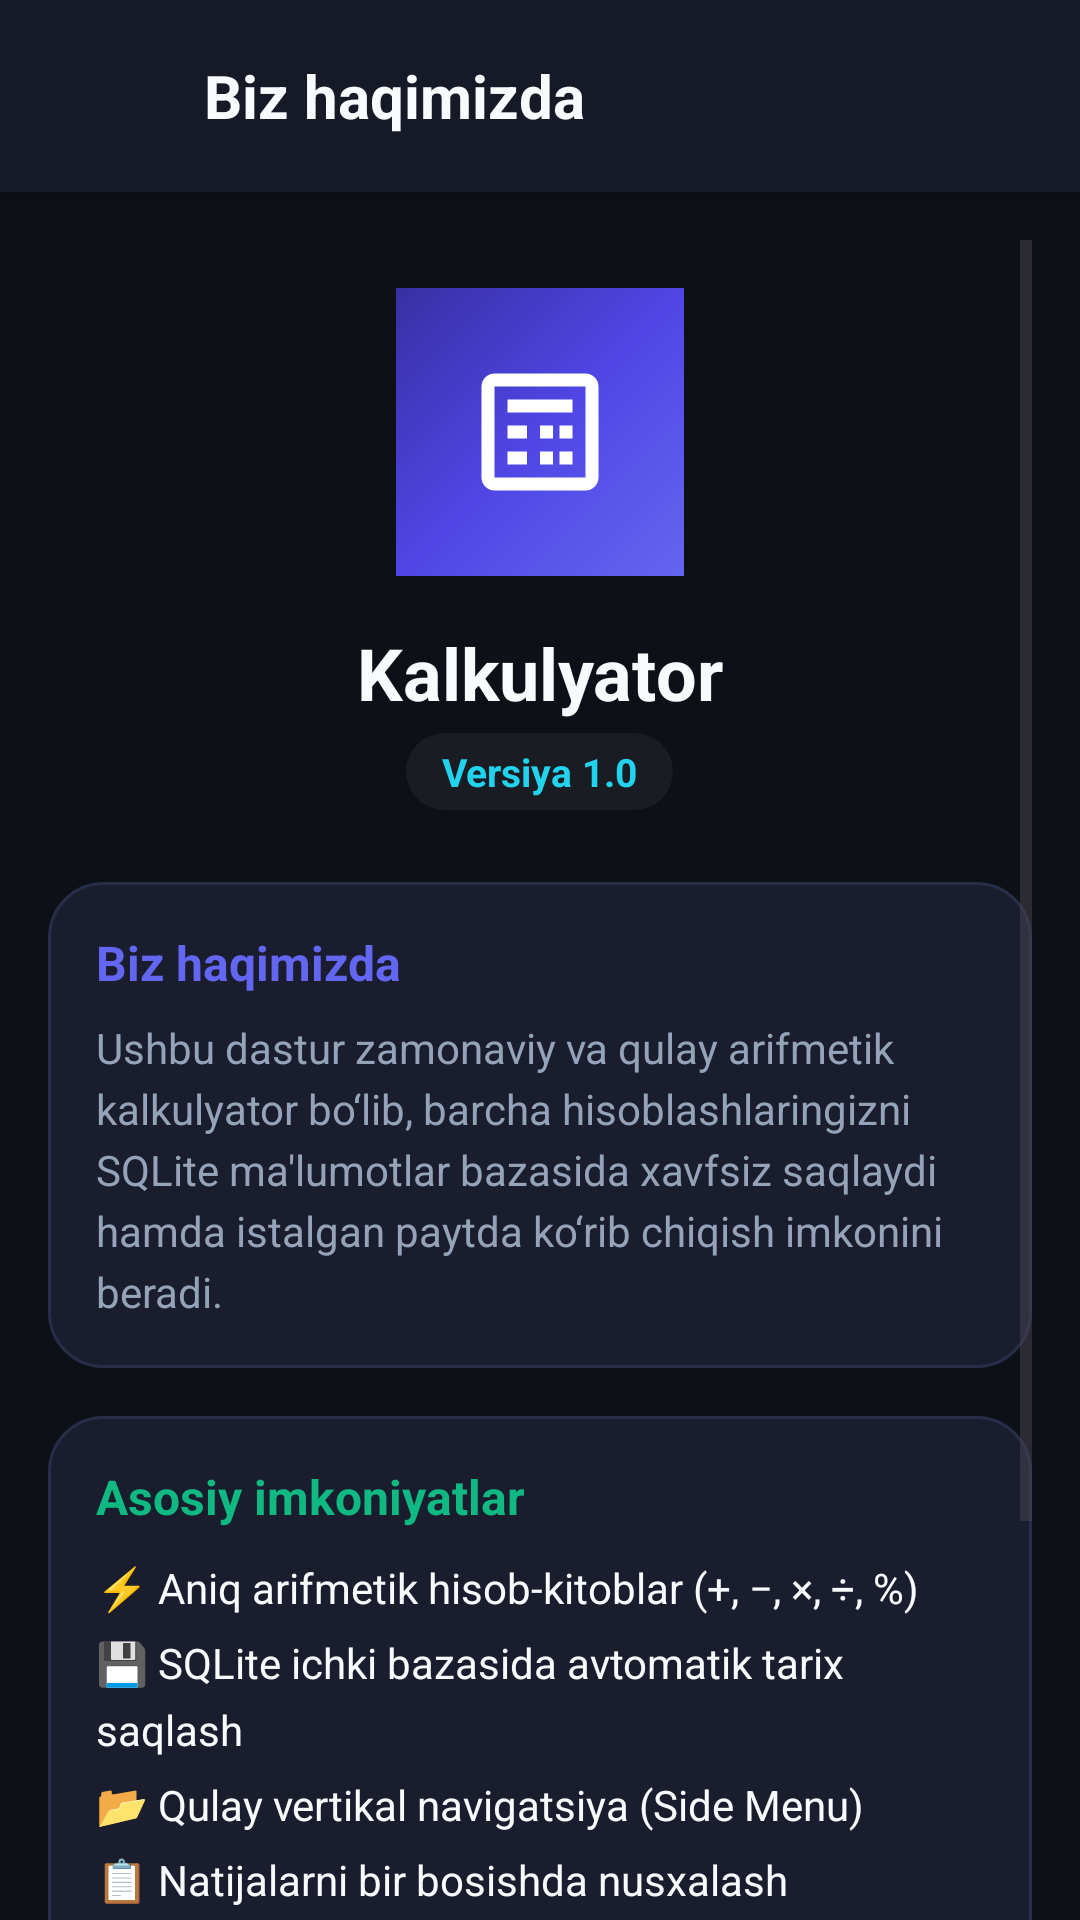

Screen size 1080×1920. Icon name, then its center in pixels as point (x, y):
calculator: point (530, 422)
